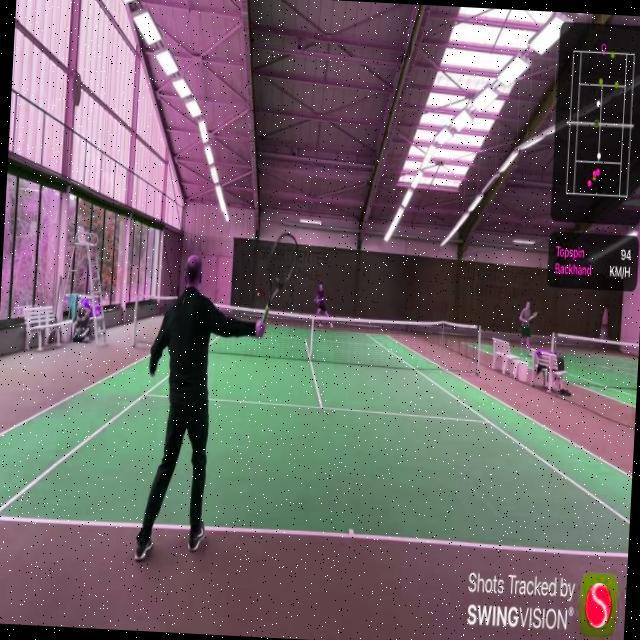court: (0, 309, 639, 558)
net: (132, 293, 484, 374)
player: (135, 225, 300, 570)
